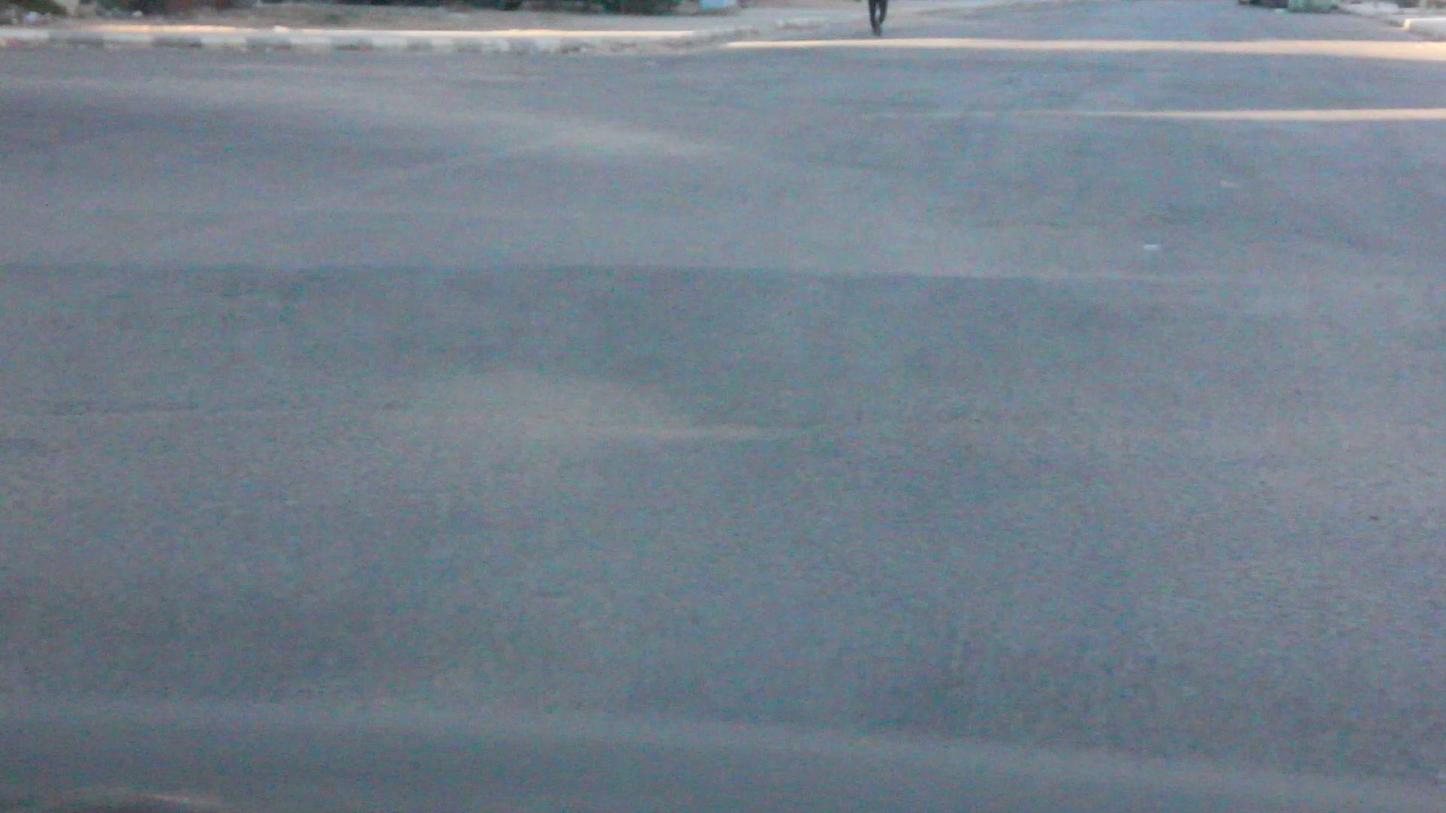Bump: (2, 239, 1446, 412)
